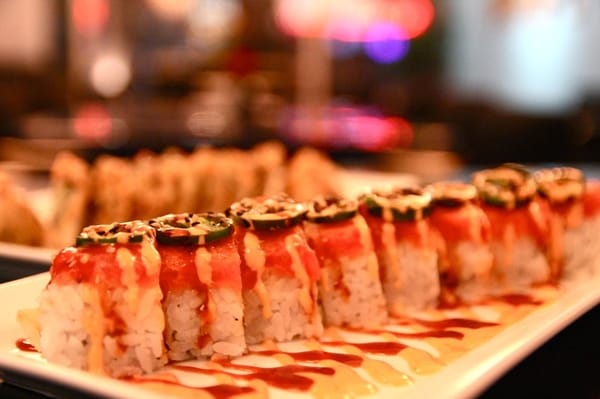sushi: (3, 176, 593, 386)
